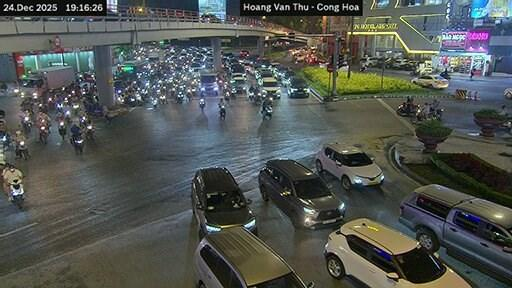motorbike: (410, 106, 442, 122), (10, 180, 21, 208), (396, 102, 416, 116), (16, 140, 28, 158), (70, 136, 82, 153), (0, 130, 9, 148), (38, 125, 47, 143), (57, 121, 66, 139), (22, 116, 31, 133), (262, 104, 272, 118), (429, 108, 442, 118), (253, 91, 262, 103), (176, 90, 184, 103), (71, 103, 80, 113), (438, 72, 450, 79), (86, 125, 92, 139), (218, 104, 224, 118), (64, 109, 70, 122), (224, 90, 230, 102), (198, 98, 204, 109), (246, 90, 253, 99), (160, 94, 166, 103), (358, 66, 367, 71), (153, 97, 157, 103), (152, 103, 156, 108)
